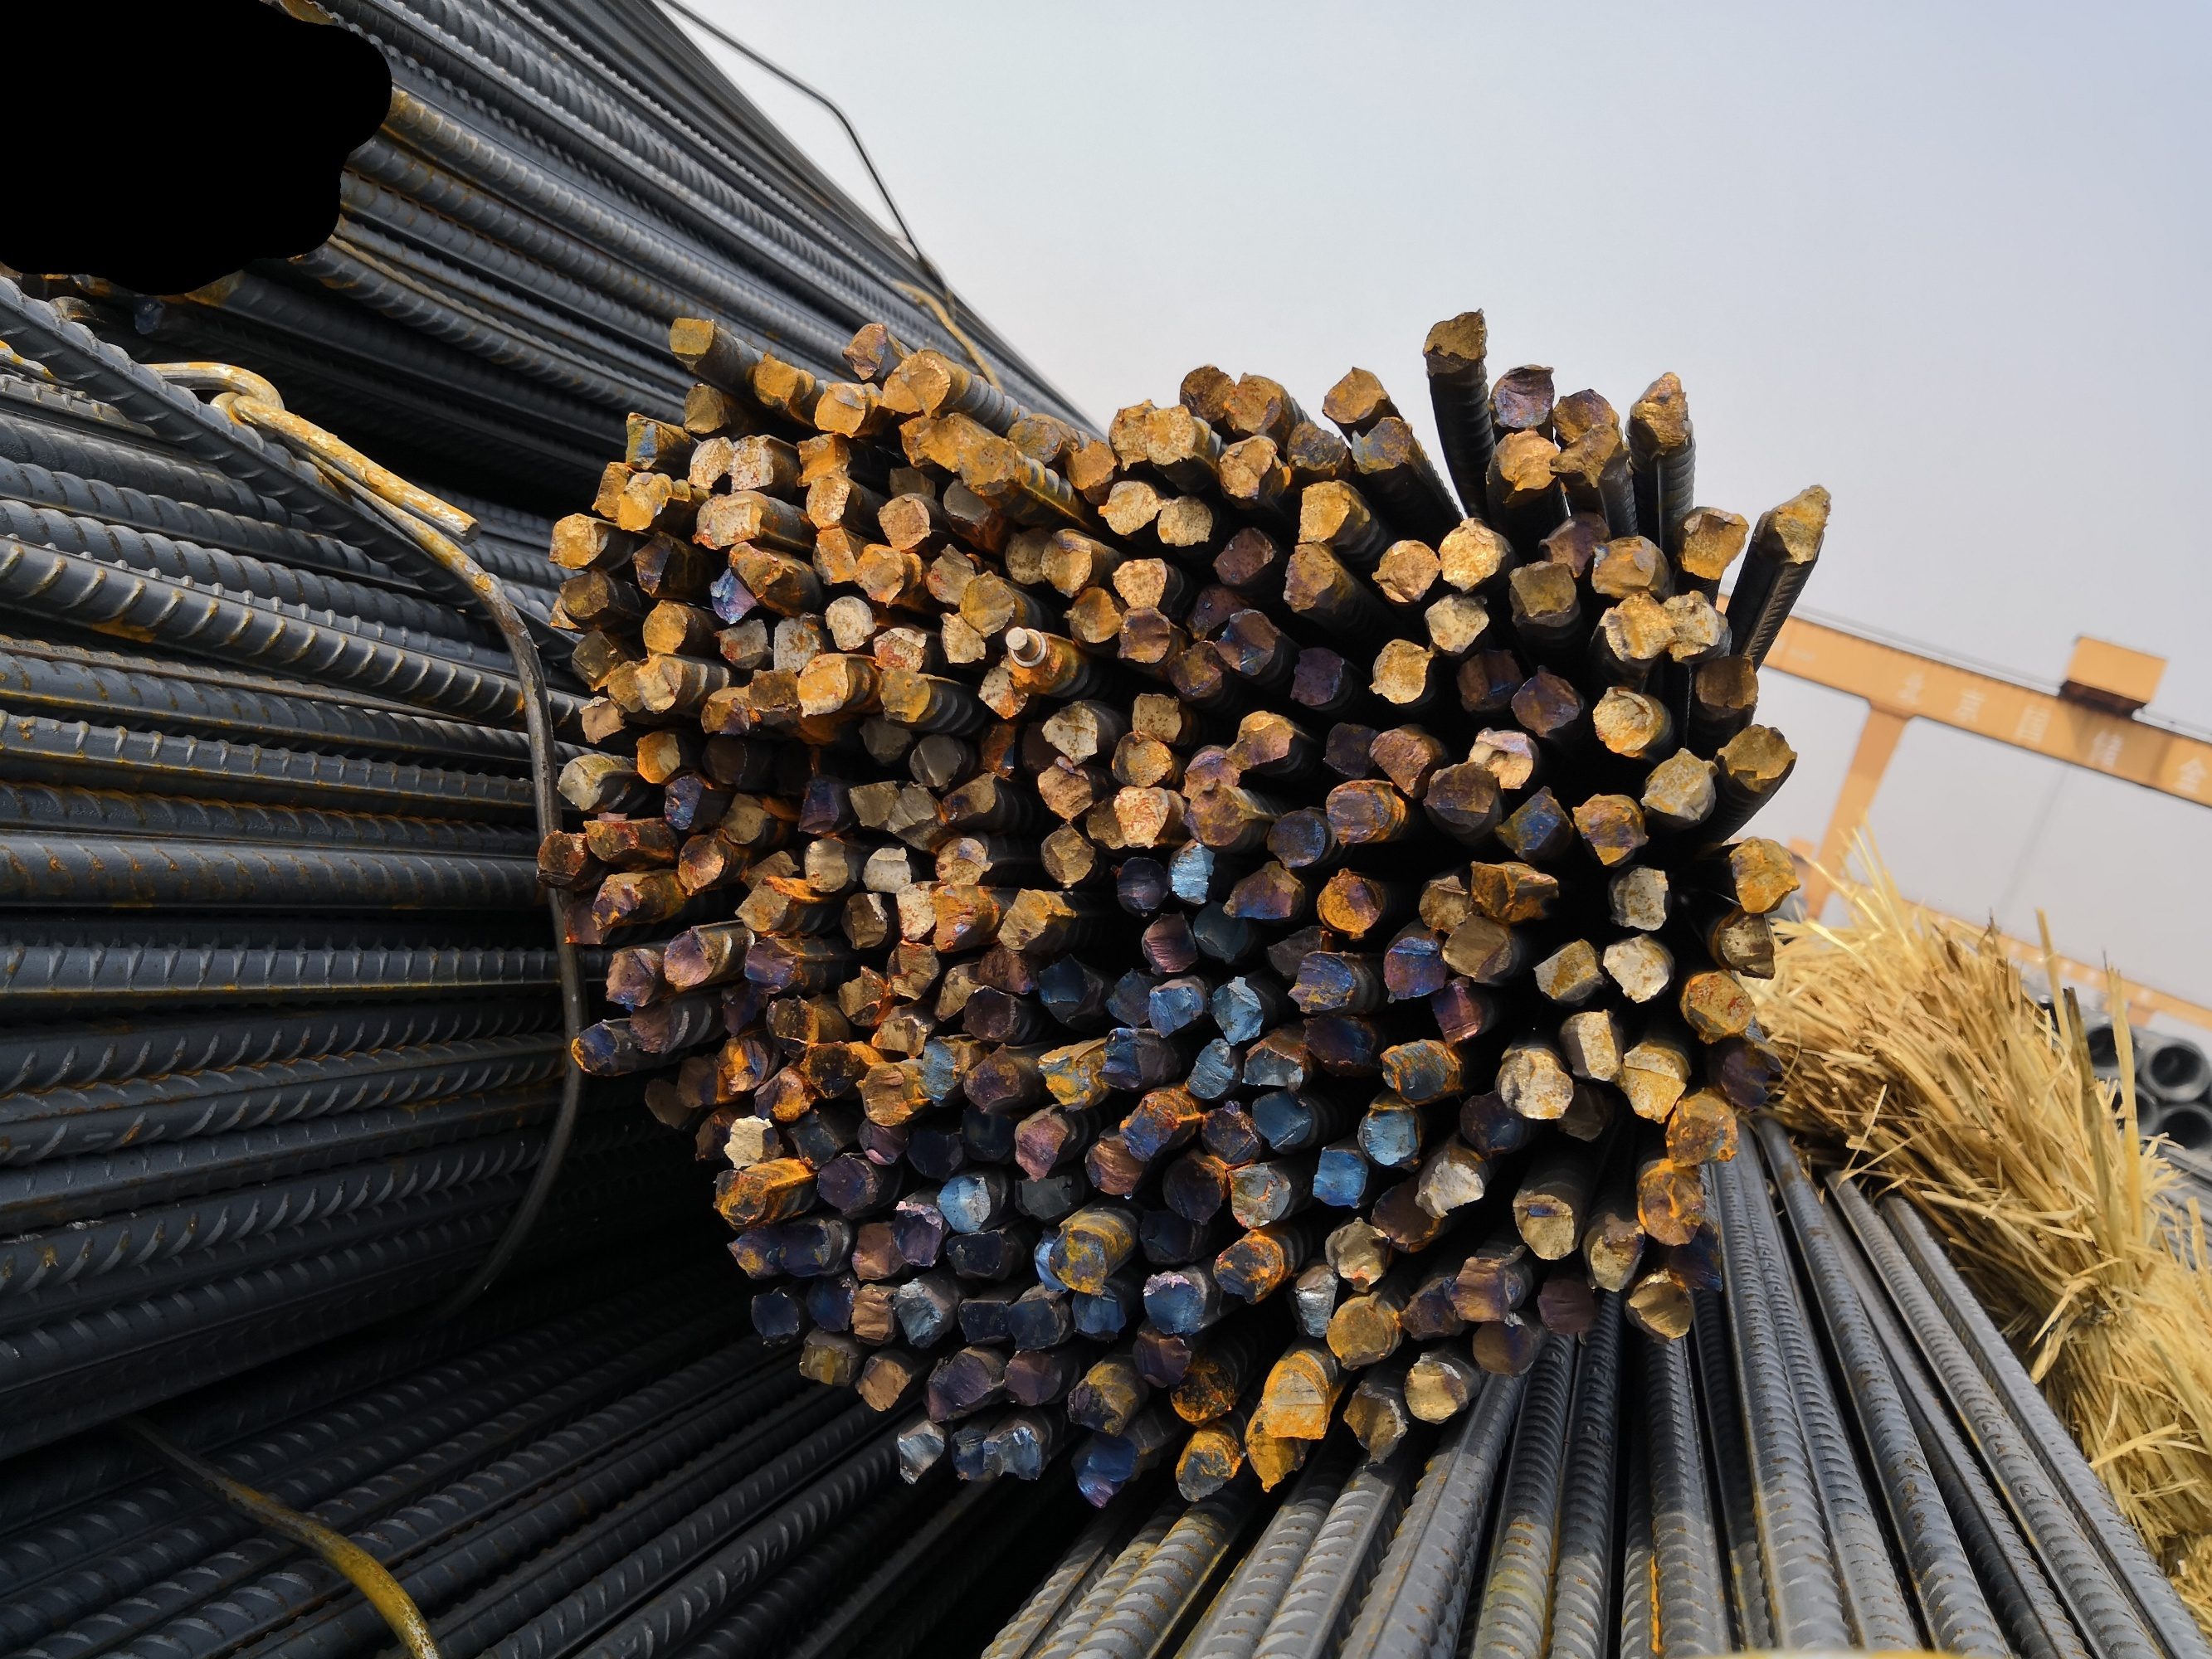rebar: (1639, 741, 1720, 824), (1717, 713, 1804, 791), (1497, 1044, 1579, 1122), (1727, 831, 1802, 915), (1255, 1361, 1328, 1446), (1768, 477, 1835, 566), (1598, 586, 1677, 662), (1680, 967, 1757, 1046), (1625, 1035, 1691, 1126), (1469, 857, 1558, 924), (1032, 945, 1105, 1025), (1340, 1382, 1410, 1466), (1211, 1227, 1285, 1305), (1325, 1293, 1400, 1368), (1438, 911, 1515, 985), (1436, 511, 1504, 592), (1243, 1406, 1309, 1490), (1571, 793, 1647, 864), (1682, 498, 1750, 579), (1224, 859, 1306, 925), (1511, 662, 1581, 739), (1591, 681, 1659, 760), (1379, 1037, 1457, 1105), (1637, 1169, 1705, 1248), (1630, 369, 1696, 450), (1626, 1270, 1700, 1342), (877, 345, 952, 415), (1070, 1439, 1145, 1509), (1588, 532, 1663, 601), (1325, 777, 1394, 852), (1511, 1183, 1578, 1262), (1541, 505, 1612, 577), (1138, 1267, 1213, 1335), (1450, 1251, 1518, 1326), (1323, 1215, 1389, 1291), (1161, 1147, 1224, 1227), (1508, 559, 1581, 627), (1426, 760, 1499, 828), (1370, 1176, 1438, 1249), (1715, 1035, 1781, 1110), (1403, 1349, 1469, 1424), (1665, 1107, 1745, 1168), (1178, 777, 1248, 847), (1459, 1089, 1529, 1159), (1421, 301, 1489, 373), (1555, 422, 1626, 490), (1464, 725, 1536, 793), (1421, 587, 1494, 653), (1537, 932, 1604, 1006), (1469, 1312, 1539, 1380), (1485, 362, 1557, 429), (1370, 538, 1442, 605), (1381, 931, 1447, 1002), (1168, 1364, 1241, 1429), (1497, 784, 1560, 859), (1663, 1222, 1726, 1297), (1600, 934, 1668, 1002), (1316, 866, 1384, 934), (1288, 950, 1358, 1016), (1494, 423, 1558, 495), (1304, 1007, 1375, 1072), (1415, 1154, 1487, 1218), (1227, 1157, 1290, 1230), (1049, 1222, 1110, 1297), (1426, 969, 1487, 1044), (1564, 1007, 1625, 1082), (1694, 648, 1762, 714), (1368, 727, 1435, 795), (1215, 605, 1279, 674), (1370, 638, 1435, 708), (1459, 641, 1520, 714), (793, 648, 851, 725), (1349, 410, 1415, 476), (812, 1145, 877, 1213), (1665, 586, 1720, 664), (1210, 525, 1279, 587), (1722, 906, 1778, 985), (1084, 1129, 1145, 1201), (1034, 753, 1095, 824), (1138, 1197, 1198, 1270), (1279, 540, 1339, 613), (1173, 1441, 1238, 1507), (1217, 436, 1281, 502), (1356, 1103, 1421, 1169), (1553, 385, 1621, 448), (962, 1042, 1023, 1112), (1227, 711, 1297, 772), (957, 568, 1016, 640), (1586, 1222, 1642, 1297), (1199, 1098, 1262, 1164), (1224, 369, 1286, 436), (1293, 479, 1356, 545), (1252, 1086, 1314, 1152), (725, 535, 786, 603), (1039, 697, 1100, 765), (1311, 1141, 1372, 1209), (798, 1270, 858, 1340), (1140, 908, 1199, 978), (709, 1168, 774, 1230), (933, 1344, 995, 1408), (1004, 626, 1067, 690), (1265, 807, 1328, 871), (1412, 873, 1475, 938), (1191, 896, 1252, 962), (1323, 366, 1389, 427), (1611, 864, 1670, 932), (1210, 969, 1264, 1042), (1001, 1347, 1063, 1410), (1062, 582, 1124, 645), (1320, 718, 1382, 781), (915, 410, 976, 474), (955, 430, 1016, 495), (856, 1061, 915, 1127), (1114, 782, 1173, 849), (1116, 601, 1175, 667), (1014, 1108, 1067, 1183), (1041, 819, 1096, 889), (892, 1201, 947, 1272), (1293, 1262, 1340, 1344), (603, 945, 664, 1007), (753, 1061, 814, 1124), (1063, 1375, 1126, 1436), (1112, 854, 1173, 917), (1117, 1100, 1182, 1159), (1035, 1049, 1100, 1108), (997, 885, 1056, 950), (980, 1424, 1046, 1481), (1290, 643, 1347, 709), (767, 606, 823, 674), (671, 828, 727, 896), (1039, 526, 1093, 596), (722, 1112, 783, 1173), (1536, 1274, 1597, 1335), (763, 995, 823, 1058), (933, 1171, 995, 1230), (1143, 979, 1206, 1039), (1164, 640, 1227, 699), (854, 1349, 912, 1413), (1109, 730, 1173, 788), (1184, 584, 1250, 640), (1400, 1276, 1455, 1342), (568, 624, 622, 692), (708, 490, 767, 551), (1098, 477, 1159, 537), (1154, 491, 1215, 551), (1178, 361, 1238, 422), (936, 770, 999, 828), (1109, 392, 1156, 469), (1184, 1037, 1239, 1101), (835, 962, 889, 1028), (1143, 404, 1198, 471), (931, 880, 980, 953), (894, 1276, 943, 1349), (950, 1422, 1002, 1490), (847, 1220, 906, 1279), (1133, 1328, 1192, 1387), (734, 877, 795, 934), (964, 983, 1021, 1044), (1178, 742, 1241, 798), (1168, 835, 1217, 906), (879, 488, 933, 552), (908, 730, 962, 795), (743, 931, 797, 995), (662, 925, 715, 992), (919, 1356, 971, 1422), (1241, 1040, 1307, 1093), (858, 538, 908, 606), (887, 781, 938, 849), (1008, 406, 1065, 465), (793, 430, 851, 490), (622, 997, 680, 1056), (772, 1220, 830, 1279), (797, 1333, 856, 1391), (1128, 687, 1187, 744), (1267, 920, 1327, 978), (633, 648, 682, 718), (589, 873, 645, 934), (706, 563, 760, 626), (885, 934, 938, 999), (629, 532, 680, 598), (906, 1124, 966, 1180), (746, 1288, 802, 1347), (838, 321, 892, 382), (546, 509, 600, 570), (823, 592, 877, 653), (533, 828, 587, 889), (570, 1016, 624, 1077), (947, 1227, 1008, 1281), (920, 544, 974, 605), (804, 1035, 856, 1098), (1025, 1227, 1072, 1297), (699, 681, 755, 739), (715, 791, 772, 847), (953, 1293, 1011, 1349), (812, 380, 866, 439), (892, 1425, 947, 1485), (1110, 554, 1170, 608), (614, 471, 666, 532), (556, 570, 617, 622), (1286, 422, 1347, 474), (725, 432, 776, 495), (800, 833, 851, 896), (1013, 1173, 1075, 1223), (715, 615, 770, 671), (722, 1227, 777, 1283), (978, 943, 1035, 997), (640, 596, 692, 655), (1004, 1297, 1063, 1349), (716, 1032, 767, 1093), (750, 664, 797, 728), (1062, 437, 1116, 493), (631, 728, 683, 786), (934, 835, 992, 887), (976, 662, 1028, 720), (868, 620, 927, 671), (580, 814, 640, 864), (840, 890, 891, 950), (872, 1007, 931, 1058), (936, 608, 987, 667), (1557, 1082, 1607, 1141), (919, 1035, 960, 1107), (1081, 789, 1130, 850), (1100, 1025, 1143, 1093), (933, 960, 980, 1023), (812, 523, 858, 587), (938, 476, 992, 530), (699, 734, 753, 788), (791, 777, 840, 836), (1109, 965, 1157, 1025), (603, 653, 648, 716), (852, 1117, 906, 1169), (1072, 1284, 1126, 1337), (845, 779, 901, 829), (788, 1114, 838, 1169), (802, 474, 851, 532), (880, 666, 929, 723), (554, 755, 603, 812), (741, 845, 798, 894), (589, 460, 634, 521), (859, 711, 912, 763), (577, 692, 628, 746), (859, 843, 913, 894), (966, 1103, 1016, 1157), (753, 349, 800, 406), (675, 1051, 722, 1108), (1004, 523, 1046, 587), (894, 880, 938, 941), (643, 1072, 690, 1127), (666, 314, 718, 362), (678, 383, 727, 436), (687, 436, 734, 490), (854, 1281, 892, 1345), (624, 410, 664, 471), (898, 413, 941, 469), (662, 775, 704, 833), (978, 716, 1016, 779), (692, 486, 723, 552), (695, 1110, 732, 1166), (887, 462, 936, 502)
